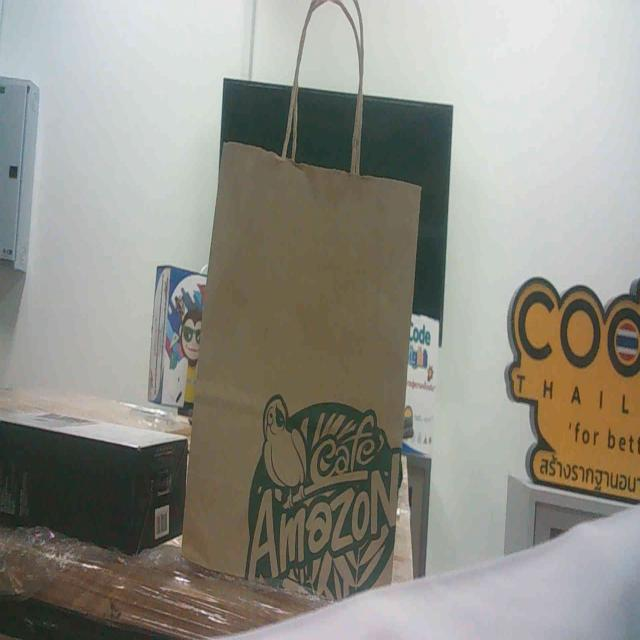bag: (192, 119, 440, 640)
